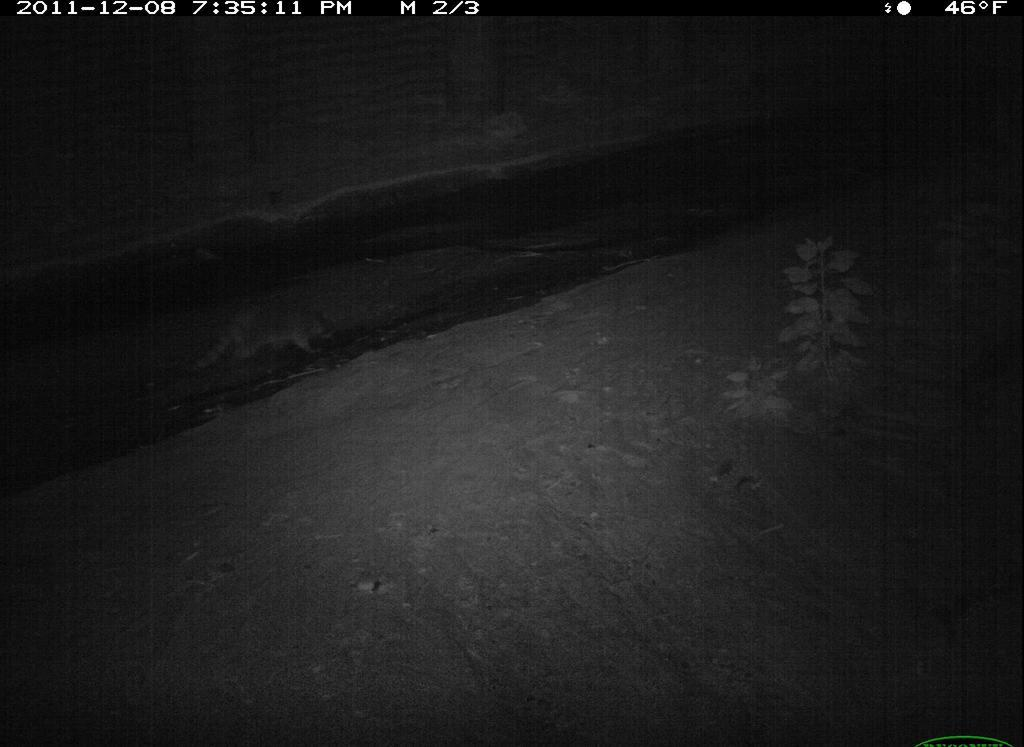raccoon: (175, 291, 342, 381)
